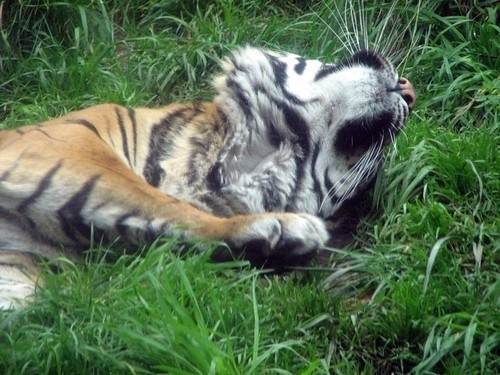tigre: (1, 34, 418, 313)
